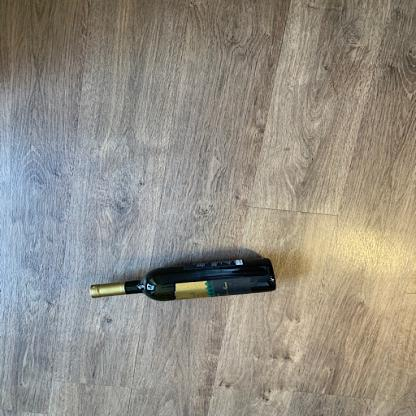trash: (87, 254, 280, 304)
